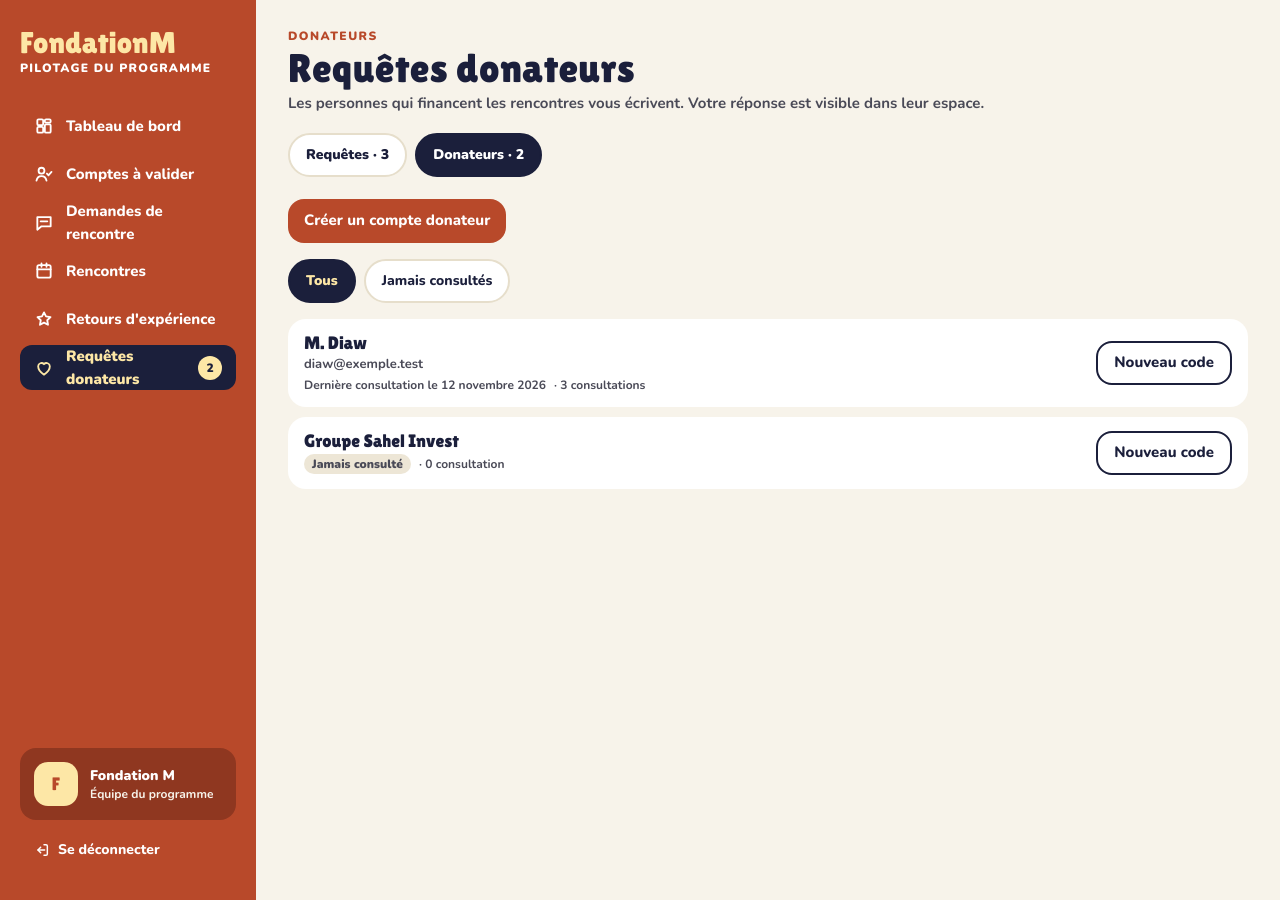
Scenario: Donateurs › signale une adresse déjà utilisée
expect the list named "Comptes donateurs" is shown: met, box [288,318,1248,489]
Click the button "Créer un compte donateur" at (397, 220), box [288,198,506,242]
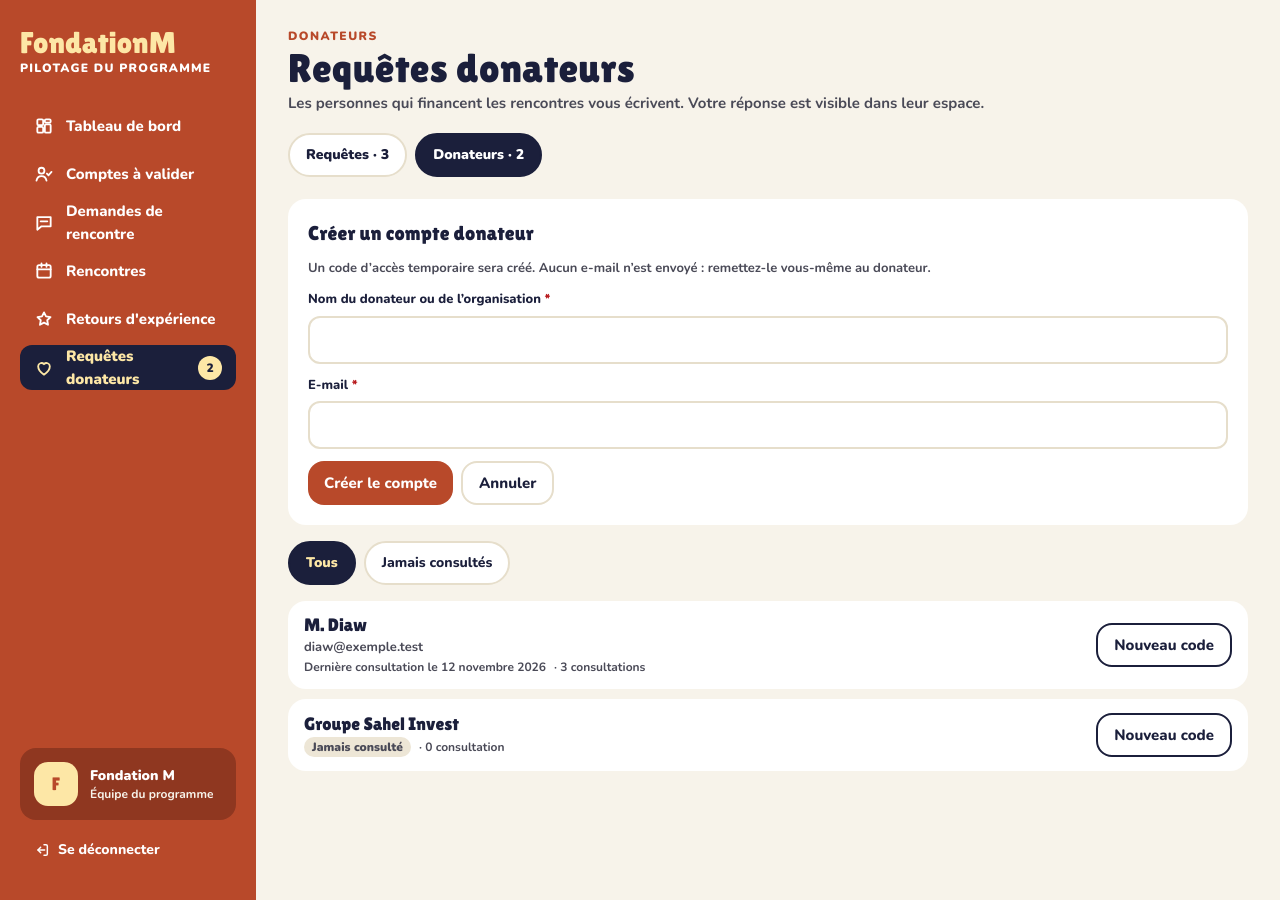
Type "M. Diaw" into the field labelled "Nom du donateur ou de l’organisation *" at (768, 340), box [308,316,1228,364]
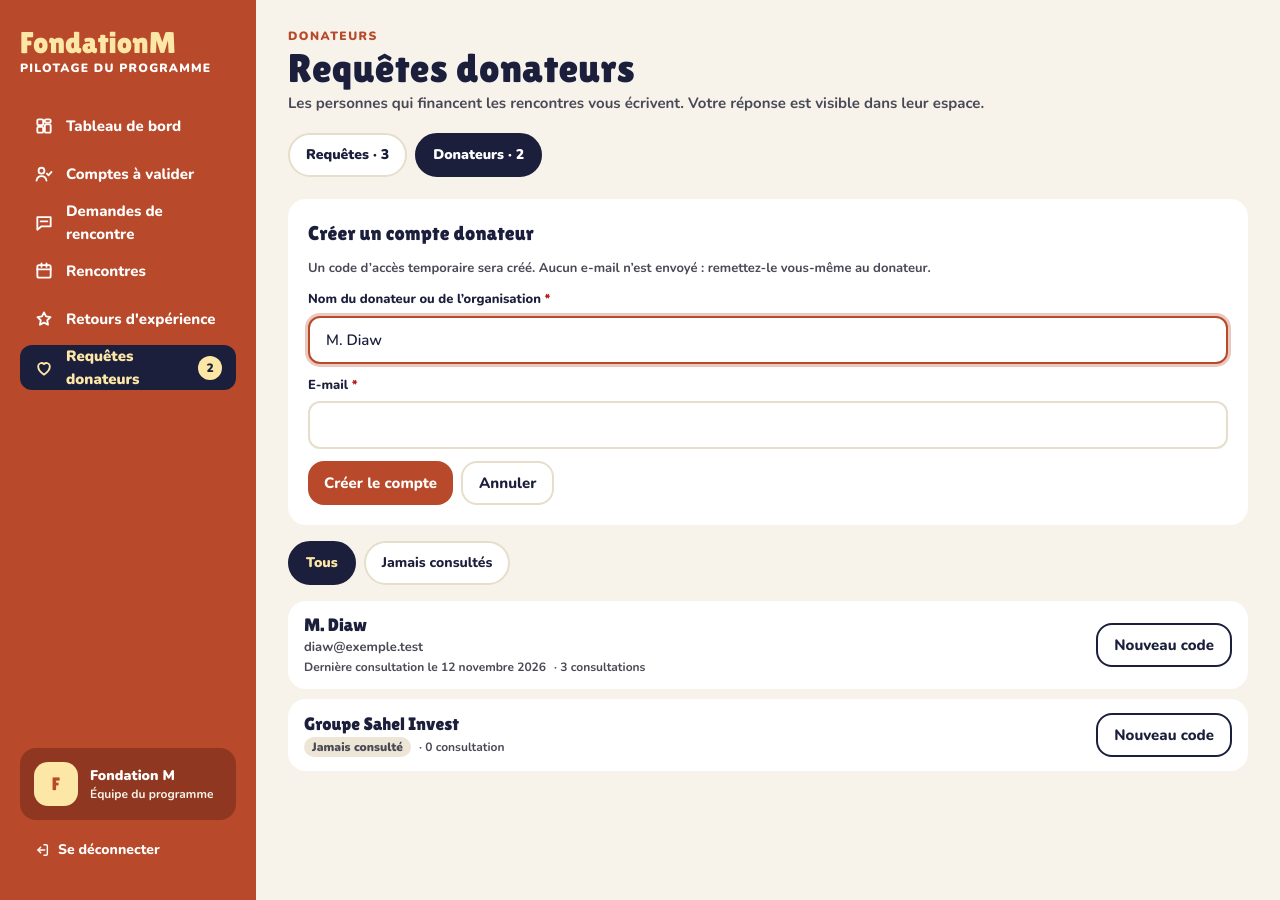
Type "diaw@exemple.test" into the field labelled "E-mail *" at (768, 425), box [308,401,1228,449]
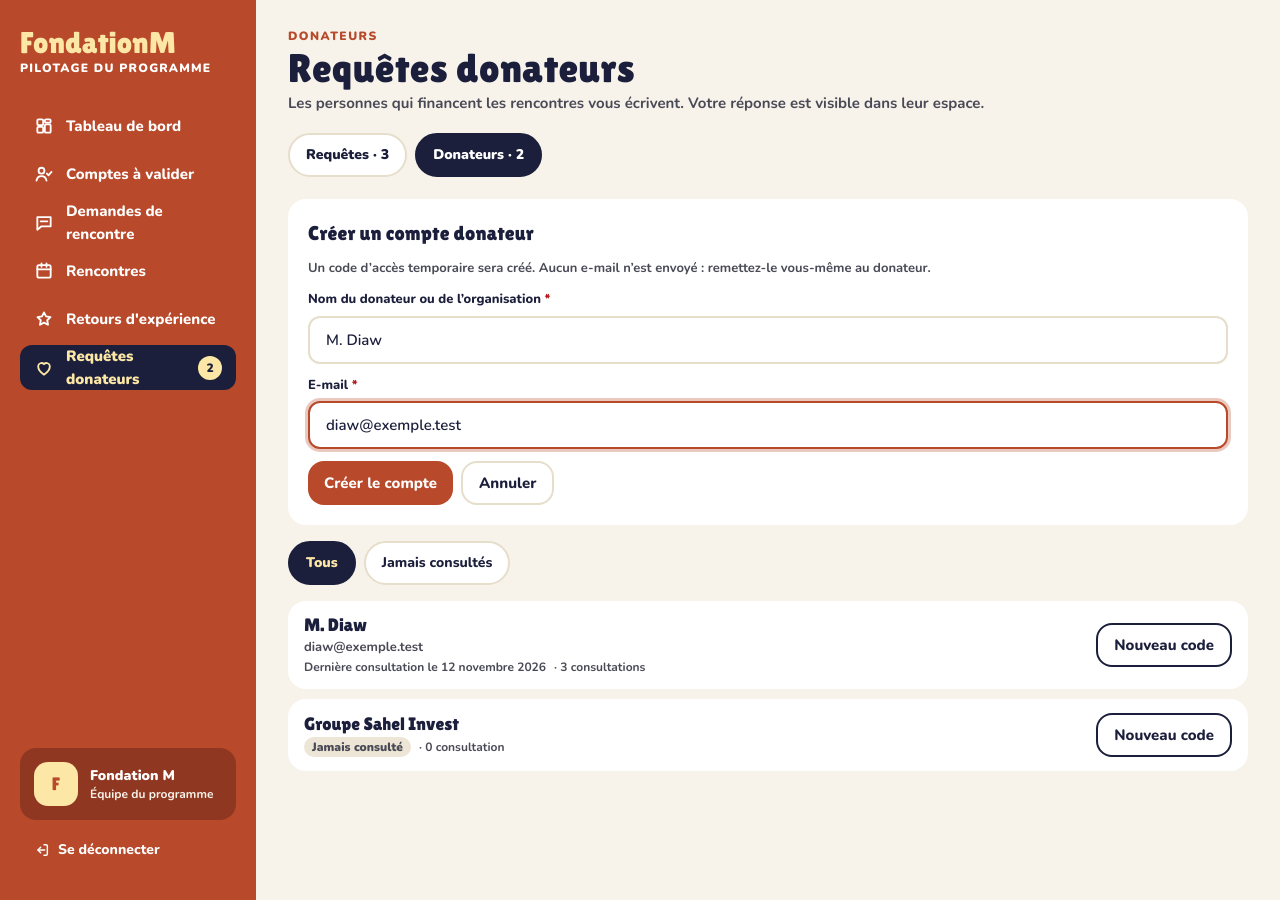
Click the button "Créer le compte" at (380, 483), box [308,461,453,505]
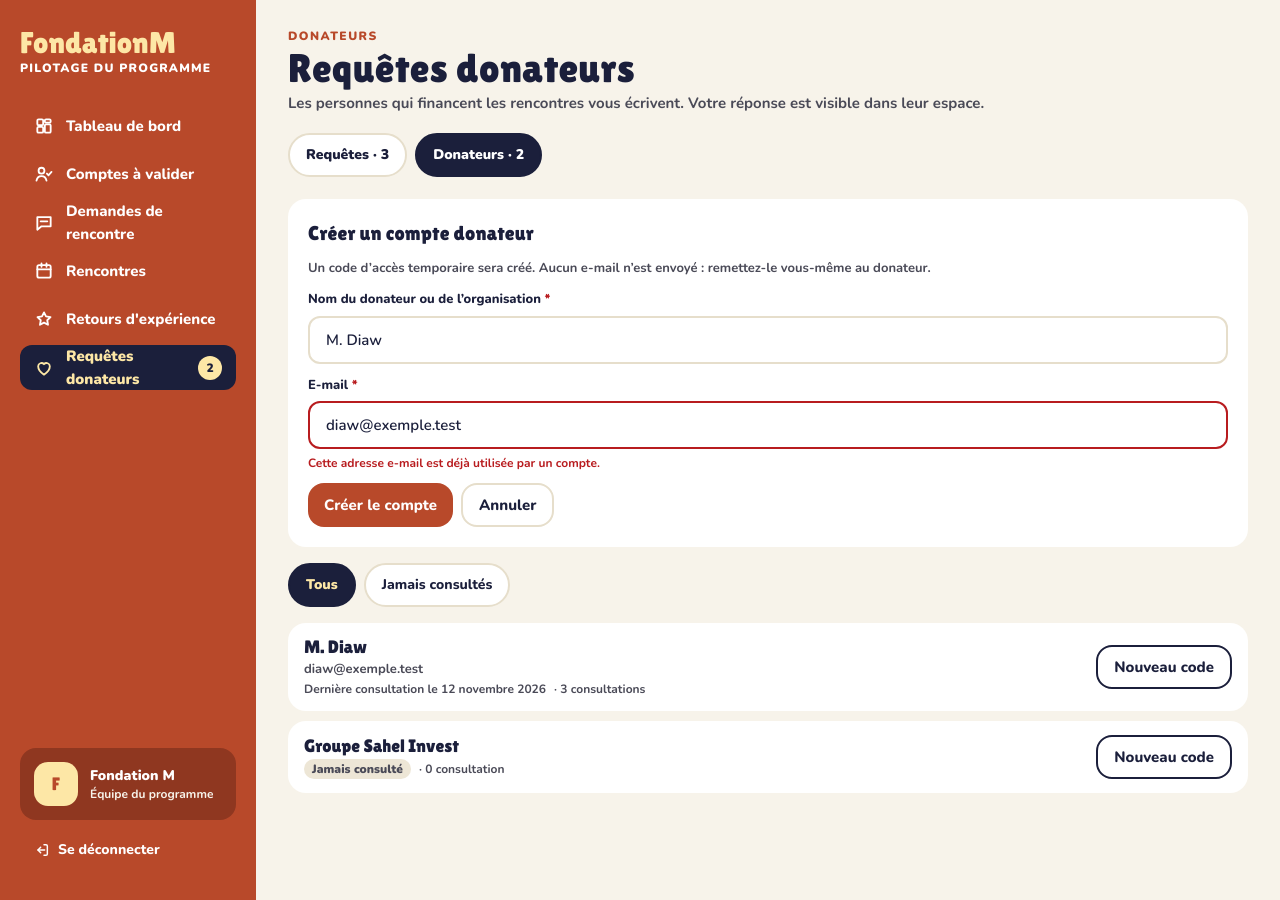
expect the text "Cette adresse e-mail est déjà utilisée par un compte." is shown: met, box [308,455,600,471]
